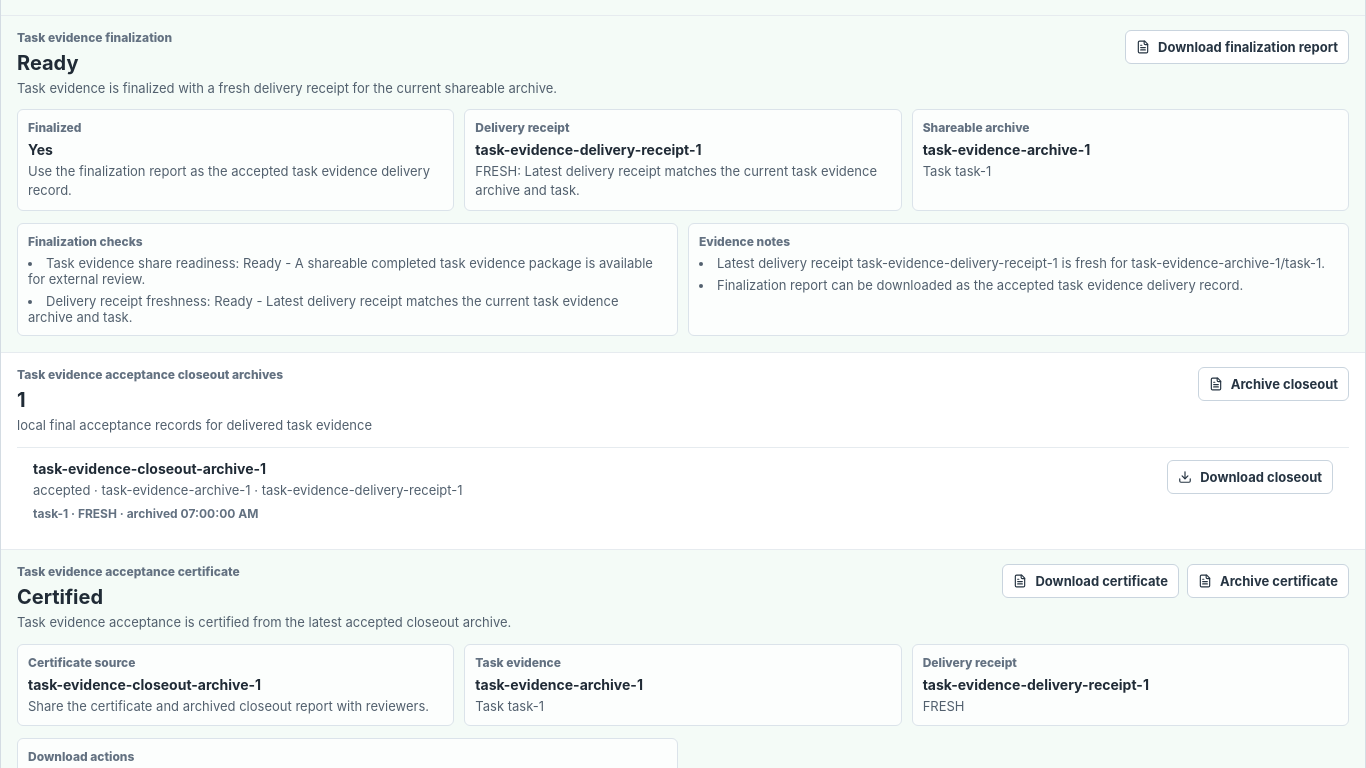
it: archives and downloads task evidence acceptance closeout from review panel
(page scrolled)
Click the button with aria-label "Archive task evidence acceptance closeout" at (1273, 384), box [1198, 367, 1349, 401]
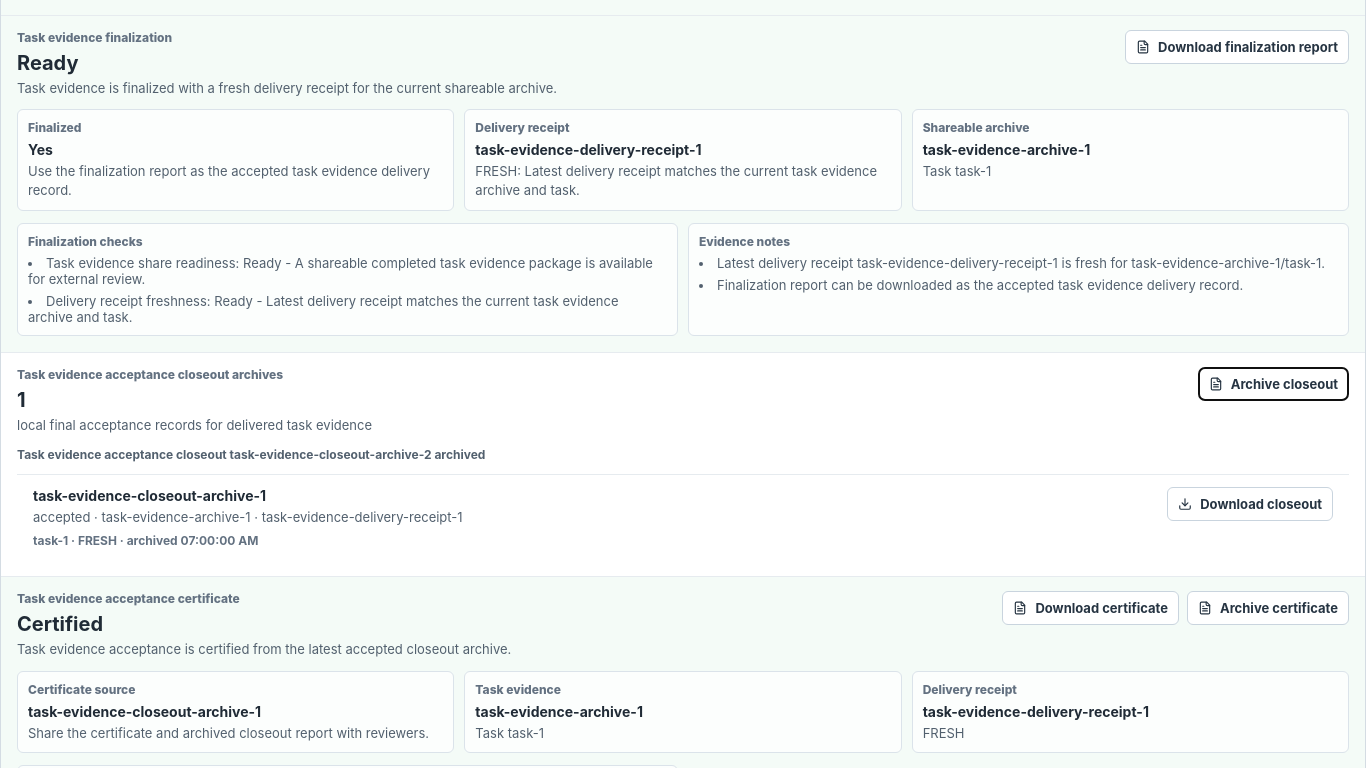
Expected: the text "Task evidence acceptance closeout task-evidence-closeout-archive-2 archived" is shown, [17, 447, 485, 462]
Click the button named "Download task evidence acceptance closeout task-evidence-closeout-archive-1" at (1250, 504), box [1167, 487, 1333, 521]
(page scrolled)
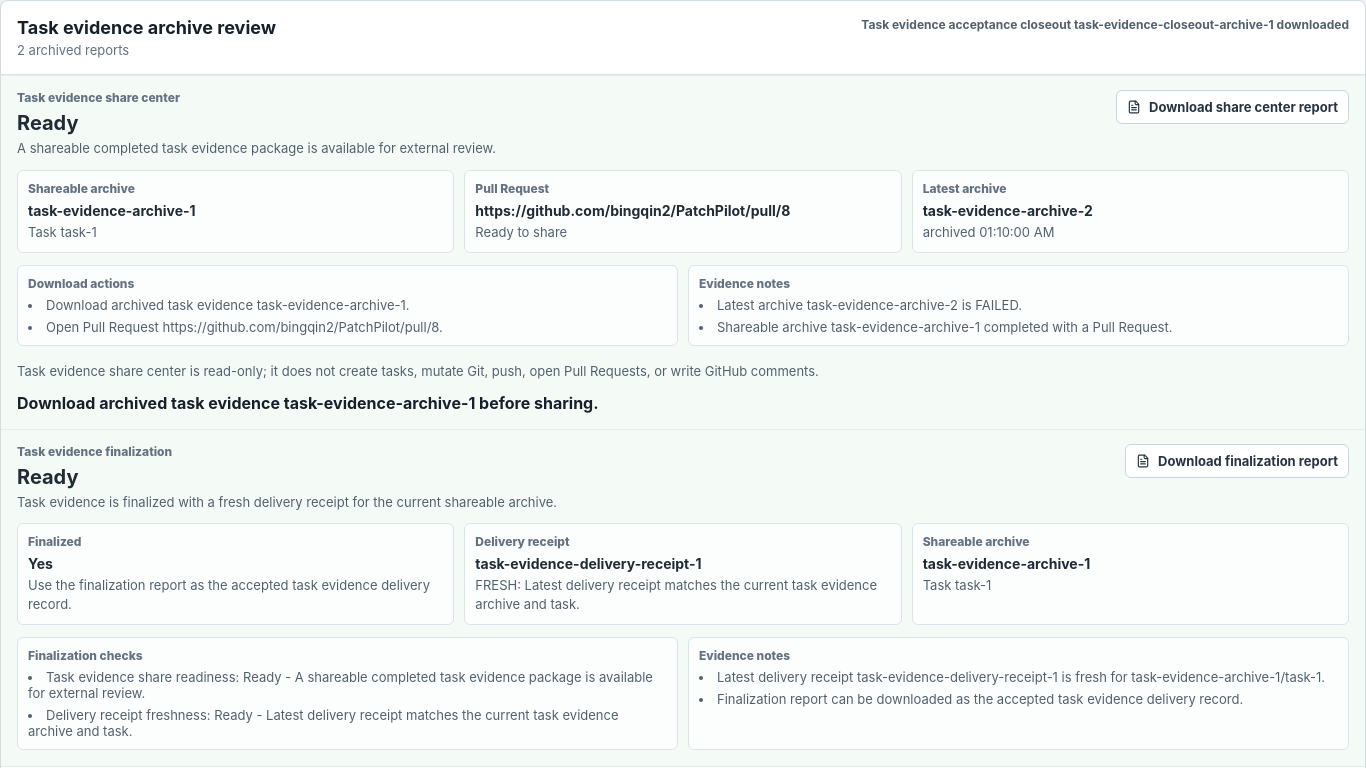
Expected: the text "Task evidence acceptance closeout task-evidence-closeout-archive-1 downloaded" is shown, [861, 17, 1349, 32]
